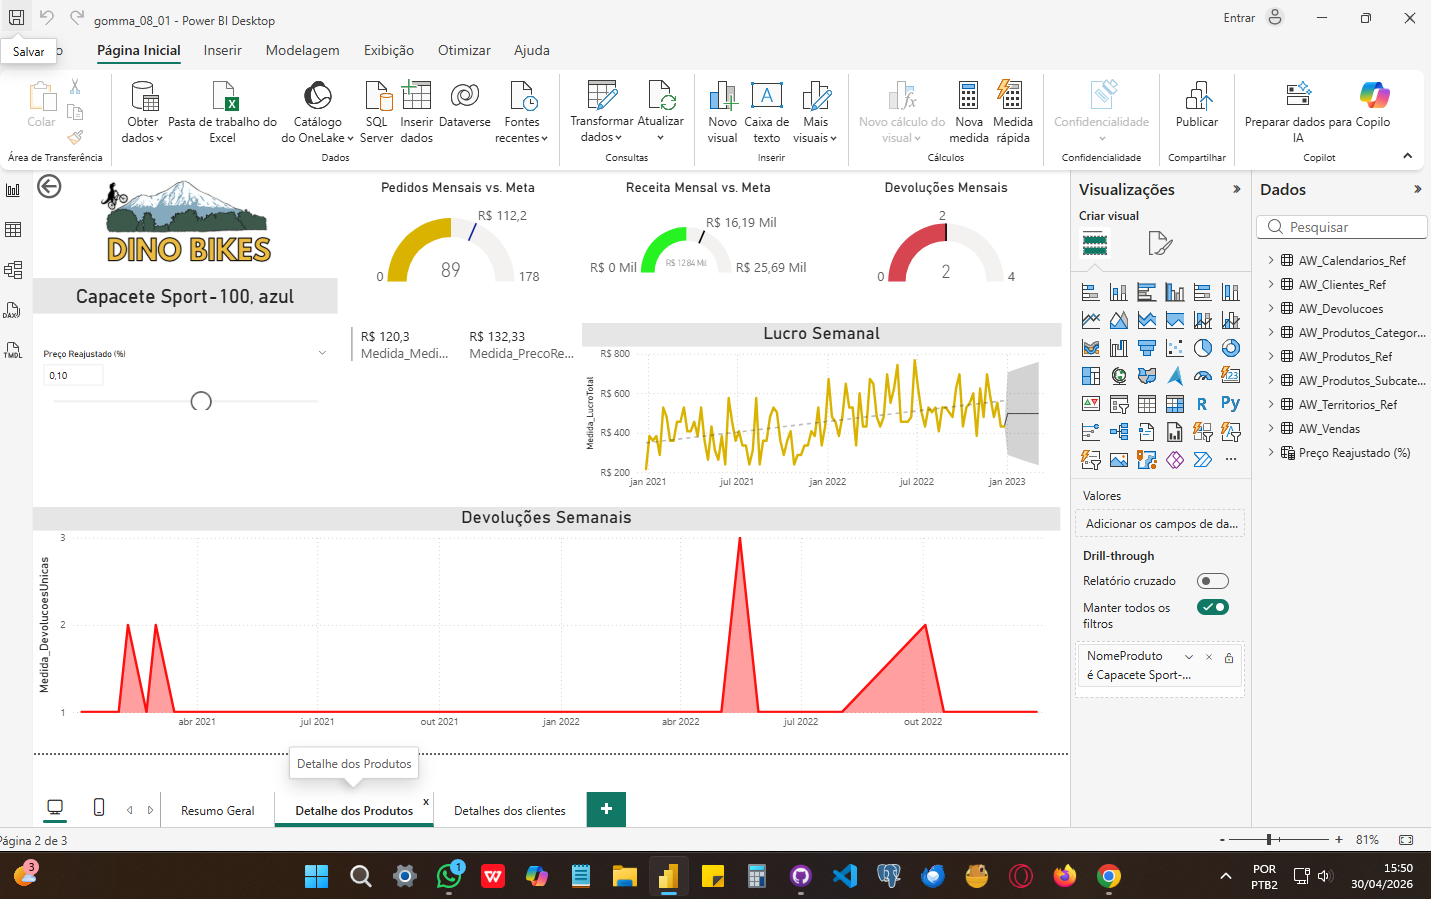

The dashboard page shown, as its layout file describes it:
{"tool":"powerbi","page":{"name":"Detalhe dos Produtos","canvas":[1280,720],"ordinal":1},"visuals":[{"type":"image","box":[0,0,375.6,133.6],"z":0},{"type":"lineChart","title":"Lucro Semanal","fields":{"Y":["AW_Vendas.Medida_LucroTotal"],"Category":["AW_Calendarios_Ref.Início da Semana"]},"box":[678.2,189.3,591.7,214.4],"z":1000},{"type":"stackedAreaChart","title":"Devoluções Semanais","fields":{"Category":["AW_Calendarios_Ref.Início da Semana"],"Y":["AW_Devolucoes.Medida_DevolucoesUnicas"]},"box":[0,415.5,1267.8,283.1],"z":2000},{"type":"gauge","title":"Pedidos Mensais vs. Meta","fields":{"Y":["AW_Vendas.Medida_PedidosUnicos"],"TargetValue":["AW_Vendas.Medida_MetaPedidos"]},"box":[388.2,11.3,271.5,136.4],"z":3000},{"type":"gauge","title":"Receita Mensal vs. Meta","fields":{"TargetValue":["AW_Vendas.Medida_MetaReceita"],"Y":["AW_Vendas.Medida_ReceitaTotal"]},"box":[678,11.3,286.9,136.4],"z":4000},{"type":"gauge","title":"Devoluções Mensais","fields":{"Y":["AW_Devolucoes.Medida_DevolucoesUnicas"],"TargetValue":["AW_Devolucoes.Medida_DevolucoesUltimoMes"]},"box":[984.6,11.3,284.1,136.4],"z":5000},{"type":"card","fields":{"Values":["Min(AW_Produtos_Ref.NomeProduto)"]},"box":[0,133.6,375.6,43.6],"z":6000},{"type":"actionButton","box":[0,0,100,40],"z":7000},{"type":"slicer","fields":{"Values":["Preço Reajustado (%).Preço Reajustado (%)"]},"box":[0,216.3,374.9,80.1],"z":8000},{"type":"multiRowCard","fields":{"Values":["AW_Produtos_Ref.Medida_MediaPrecoProduto","AW_Produtos_Ref.Medida_PrecoReajustado"]},"box":[387.7,189,290,150.6],"z":9000}]}

Visuals, with their boxes on the page's 1280x720 design canvas (x1, y1, x2, y2). These are canvas units, not pixel positions in the 1431x899 screenshot, which may show the page scaled, cropped or inside an application window:
image: left=0, top=0, right=376, bottom=134
"Lucro Semanal" lineChart: left=678, top=189, right=1270, bottom=404
"Devoluções Semanais" stackedAreaChart: left=0, top=416, right=1268, bottom=699
"Pedidos Mensais vs. Meta" gauge: left=388, top=11, right=660, bottom=148
"Receita Mensal vs. Meta" gauge: left=678, top=11, right=965, bottom=148
"Devoluções Mensais" gauge: left=985, top=11, right=1269, bottom=148
card - Min(AW_Produtos_Ref.NomeProduto): left=0, top=134, right=376, bottom=177
actionButton: left=0, top=0, right=100, bottom=40
slicer - Preço Reajustado (%).Preço Reajustado (%): left=0, top=216, right=375, bottom=296
multiRowCard - AW_Produtos_Ref.Medida_MediaPrecoProduto x AW_Produtos_Ref.Medida_PrecoReajustado: left=388, top=189, right=678, bottom=340
